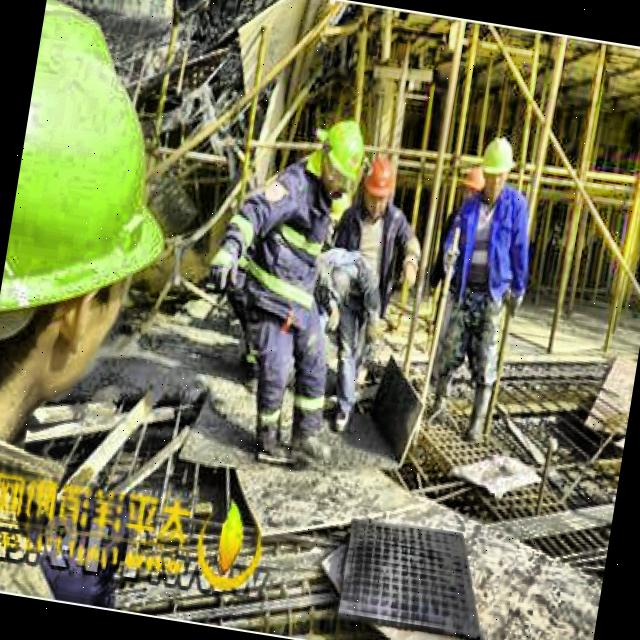helmet: (0, 2, 204, 483), (311, 108, 375, 204), (472, 132, 519, 202), (354, 147, 398, 219)
